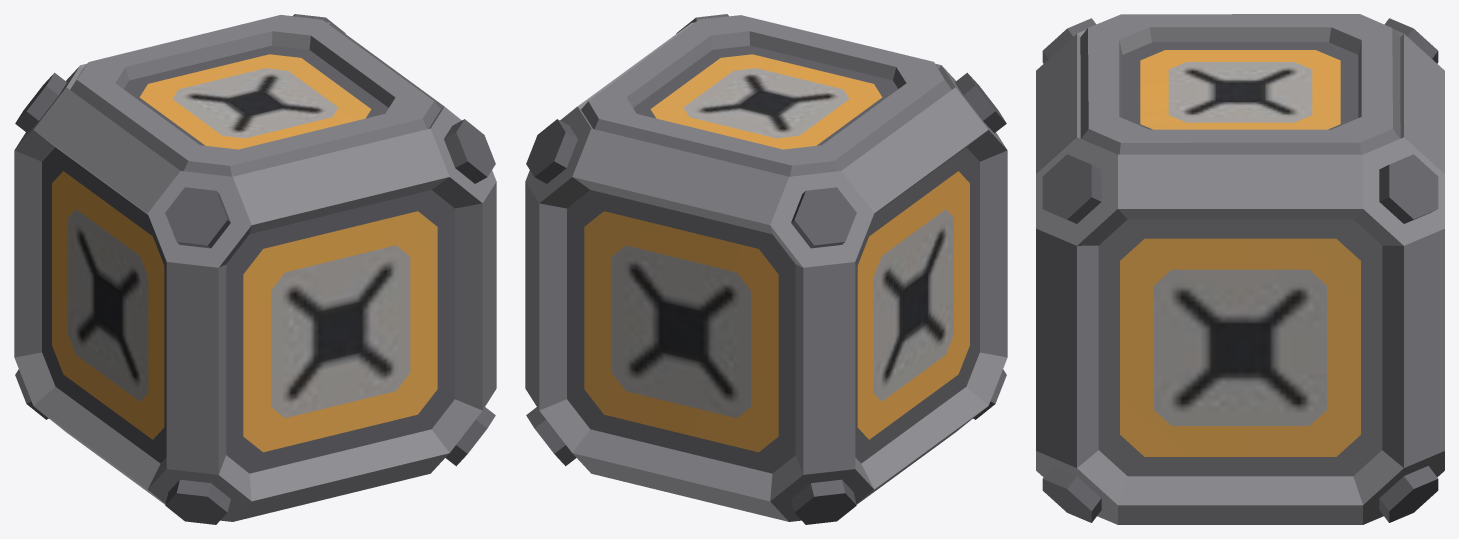
Rendered from entity28306.glb.
3 views of the same model, side by side, from view 1: azimuth 30°, elevation 25°; view 2: azimuth 150°, elevation 25°; view 3: azimuth 270°, elevation 25° (orthographic). The views are drawn at different scales.
Parts seen in each view (by area): view 1: node_SM_Prop_Crate_03 (8), node_SM_Prop_Crate_Lid_01; view 2: node_SM_Prop_Crate_03 (8), node_SM_Prop_Crate_Lid_01; view 3: node_SM_Prop_Crate_03 (8), node_SM_Prop_Crate_Lid_01.
Part boxes in pixels (x1=…): node_SM_Prop_Crate_03 (8): x1=14, y1=14, x2=496, y2=524; node_SM_Prop_Crate_Lid_01: x1=70, y1=15, x2=440, y2=176; node_SM_Prop_Crate_03 (8): x1=525, y1=14, x2=1007, y2=524; node_SM_Prop_Crate_Lid_01: x1=581, y1=15, x2=951, y2=176; node_SM_Prop_Crate_03 (8): x1=1036, y1=18, x2=1444, y2=524; node_SM_Prop_Crate_Lid_01: x1=1080, y1=14, x2=1400, y2=154.
Size of the model in its own units: 1.03 by 1.05 by 1.03.
1 material, 1 textured.
